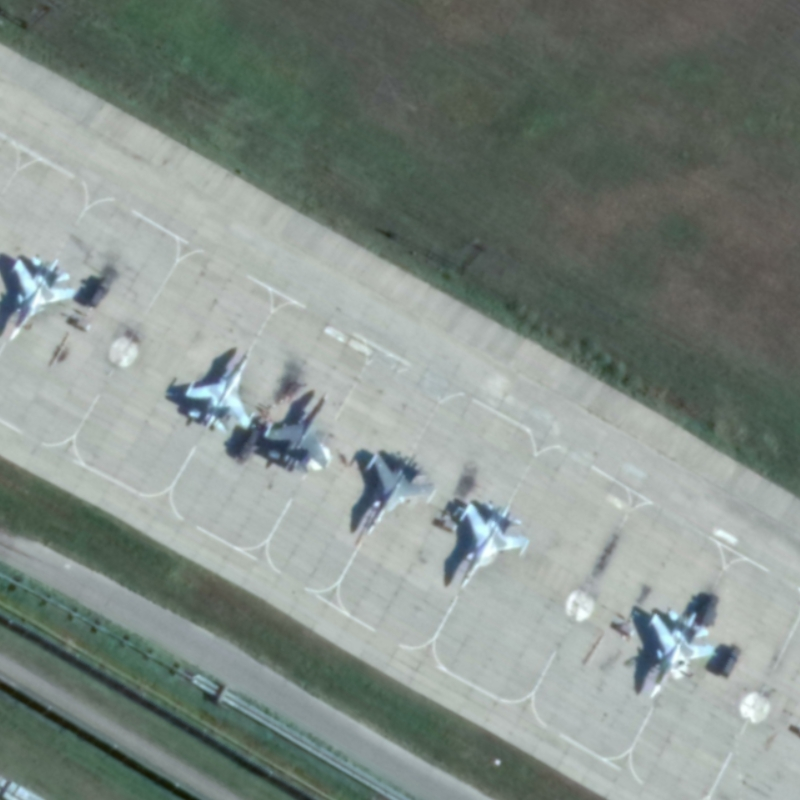A1: (353, 449, 439, 554), (455, 499, 533, 592), (181, 346, 259, 437), (262, 389, 336, 476)
A19: (646, 608, 719, 702), (7, 254, 79, 343)
